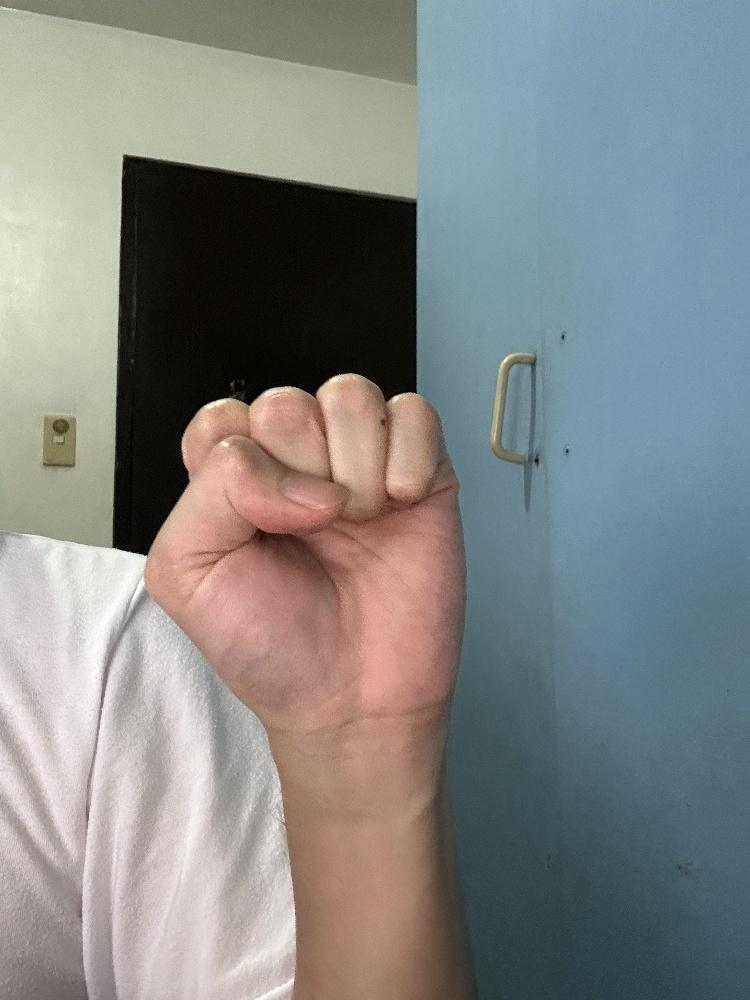s: (136, 368, 472, 749)
